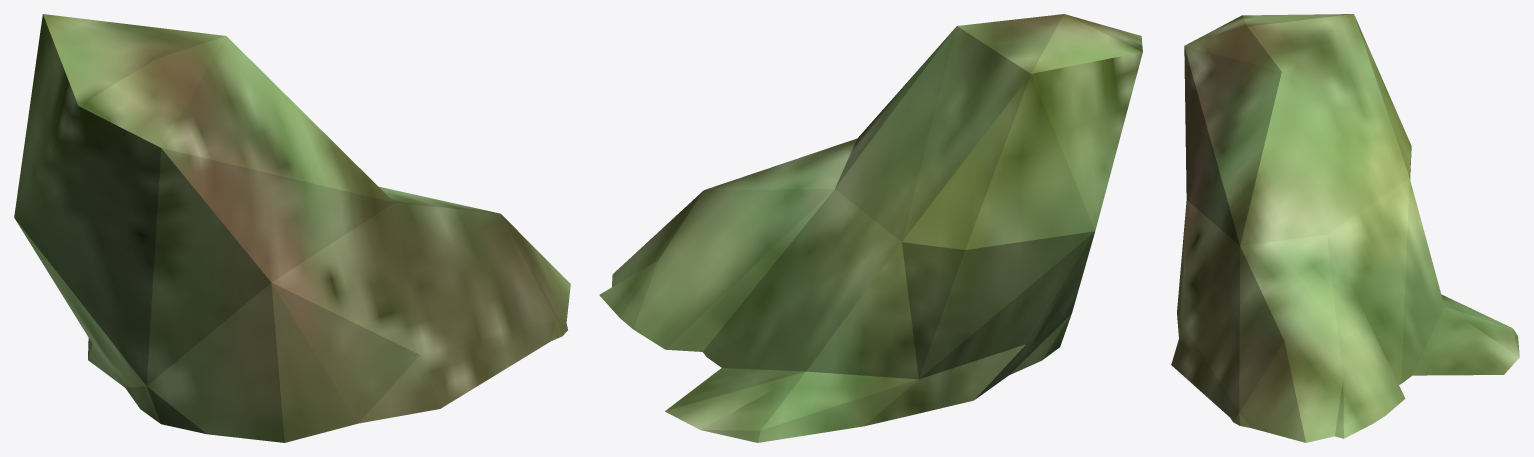
3 views of the same model, side by side, from view 1: azimuth 30°, elevation 25°; view 2: azimuth 150°, elevation 25°; view 3: azimuth 270°, elevation 25° (orthographic). The views are drawn at different scales.
Bounding box in the file's own units: 0.4169 × 0.2688 × 0.3274.
Materials: 1 (1 with a texture image).
